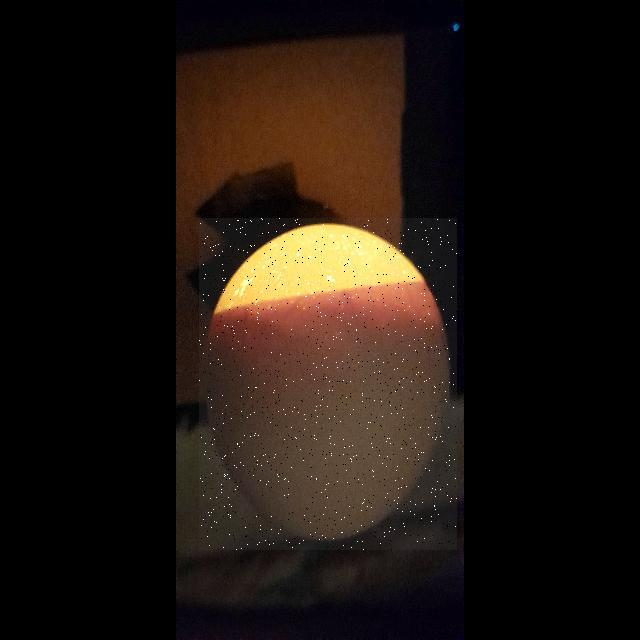Fertile: (199, 218, 457, 550)
